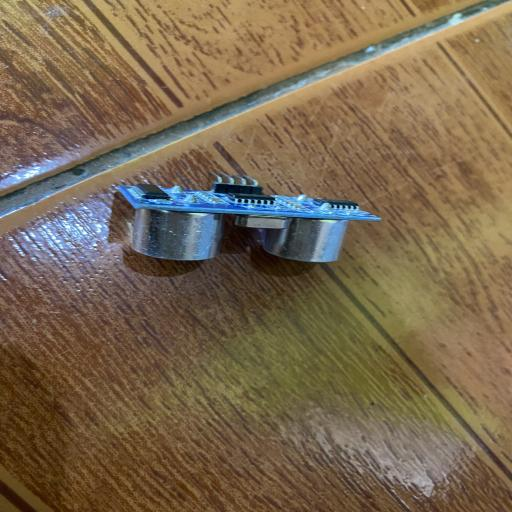Ultrasonic Sensor: (116, 170, 384, 264)
